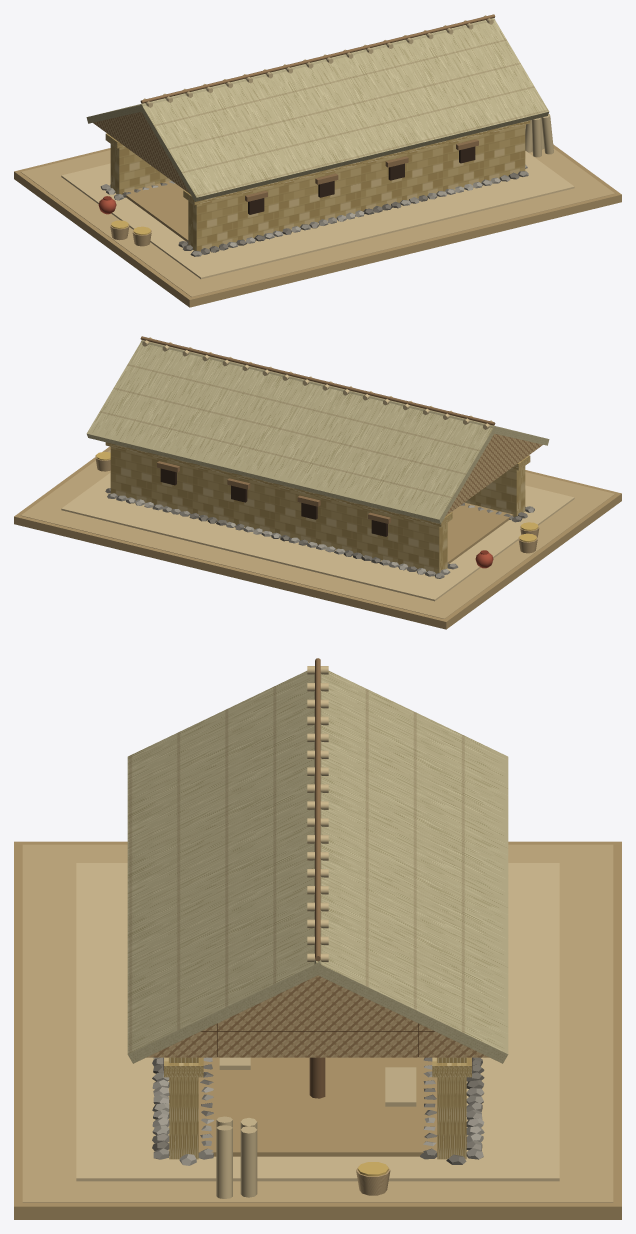
File: rad-3-built.glb
3 renders of one model, top to bottom at view 1: azimuth 30°, elevation 25°; view 2: azimuth 150°, elevation 25°; view 3: azimuth 270°, elevation 25°, orthographic. The views are drawn at different scales.
Bounding box in the file's own units: 25 × 7.36 × 17.6.
Materials: 20 (6 with a texture image).
